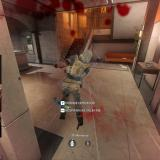Character: (52, 49, 94, 126), (80, 28, 86, 40)
Head: (80, 50, 93, 62), (81, 28, 83, 32)
